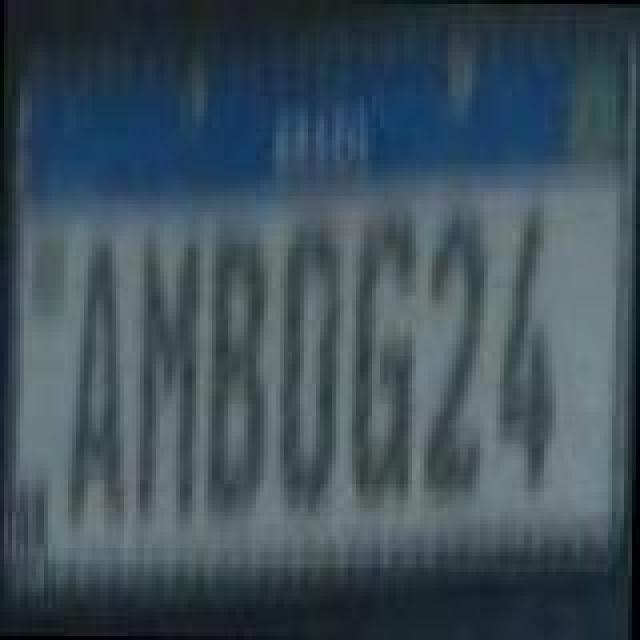2: (424, 202, 492, 506)
4: (496, 208, 564, 504)
A: (68, 240, 132, 536)
B: (204, 222, 272, 526)
D: (278, 216, 342, 520)
G: (350, 206, 422, 518)
M: (136, 226, 204, 522)
